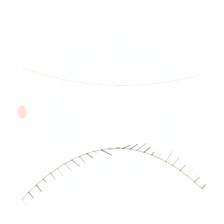pinguecula_lesion: (33, 102, 63, 127)
